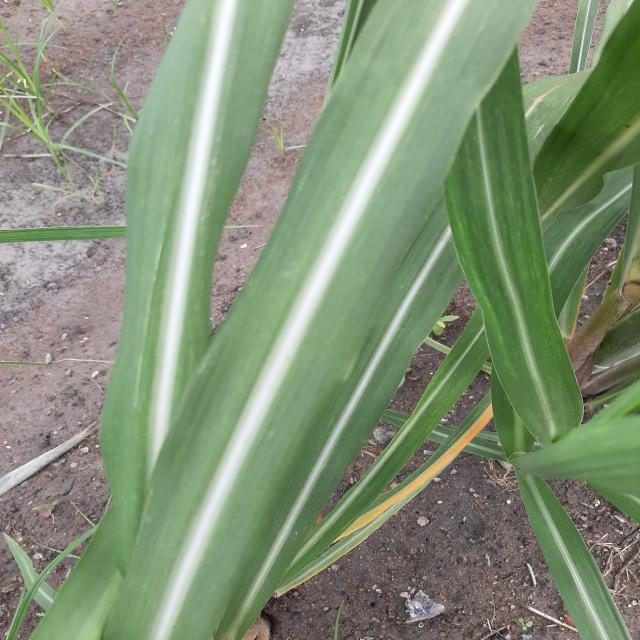Sugarcane: (12, 1, 638, 638)
